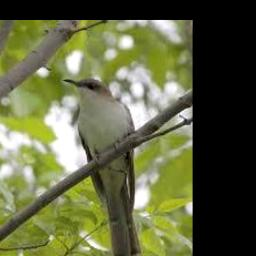Cuckoo: (63, 78, 144, 256)
